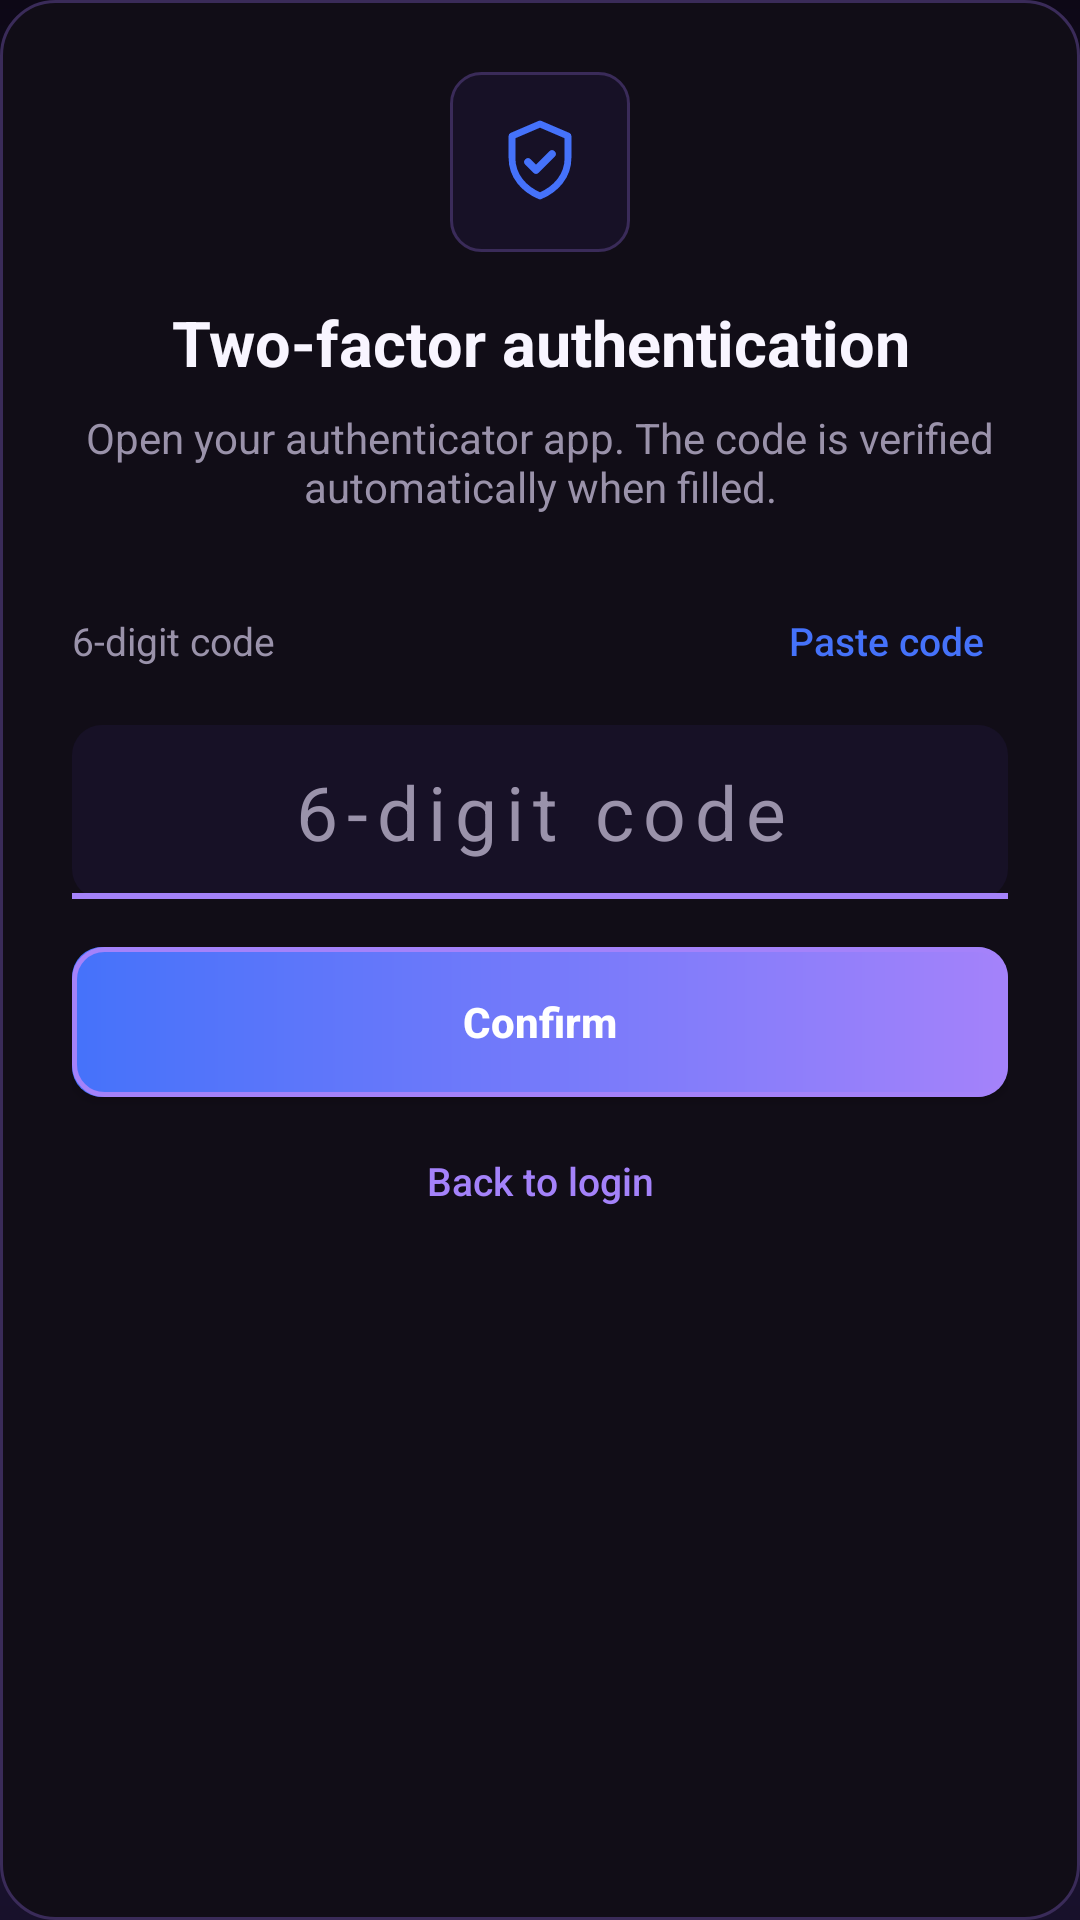

Icons on this 1080 x 1920 Android screen, each with its box as (x1,y1,x2,y2):
shield check: (450,72,630,252)
